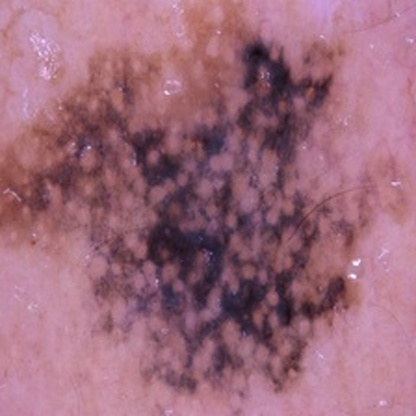malignant: (65, 52, 347, 344)
